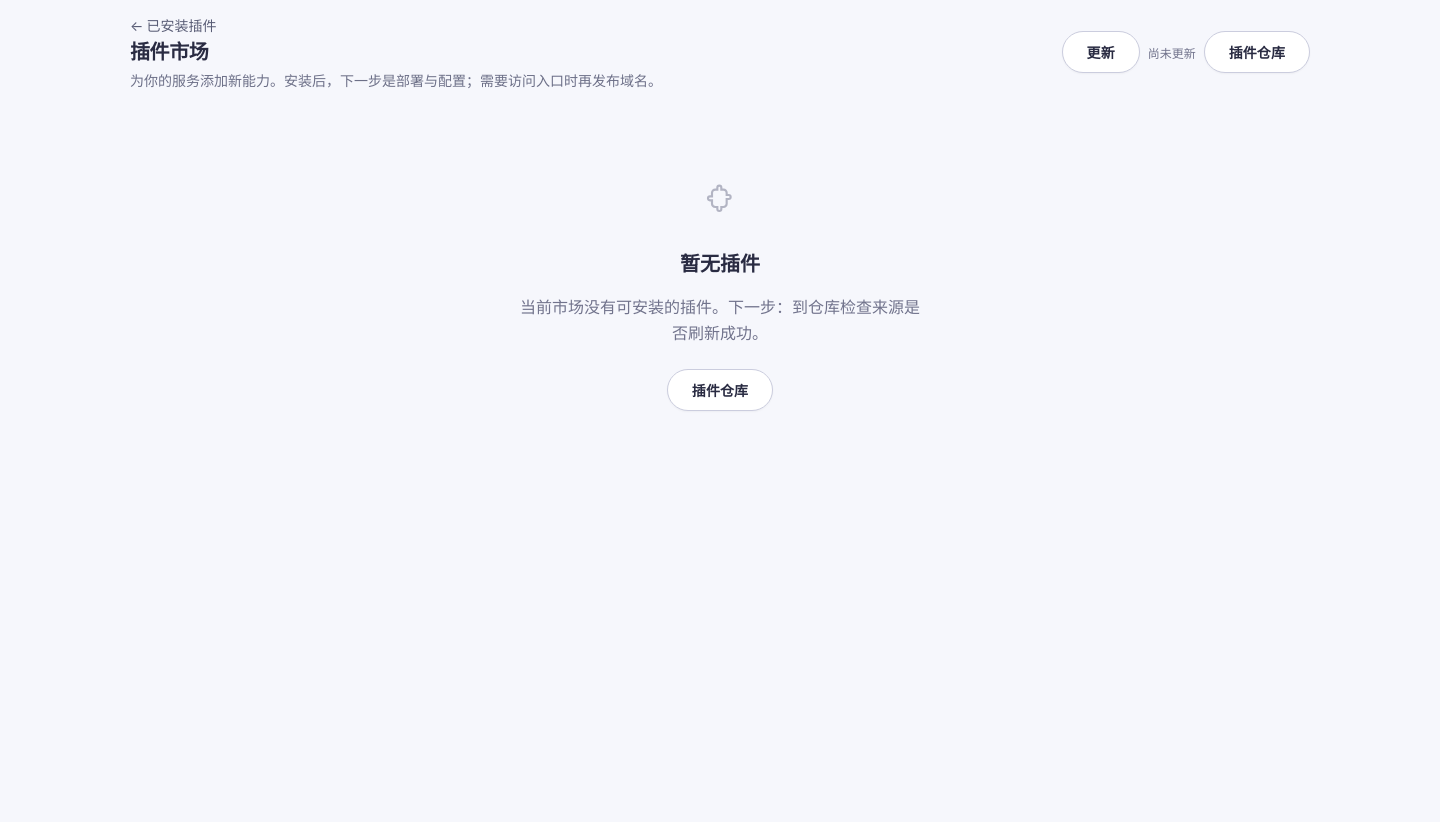
Scenario: PluginMarketplacePage › shows an empty state when the market has no packages
What coordinates should you click on to do the following:
click the button with test id "marketplace-repositories-empty"
I would click on:
 (720, 390)
Its box is [667, 369, 773, 411].
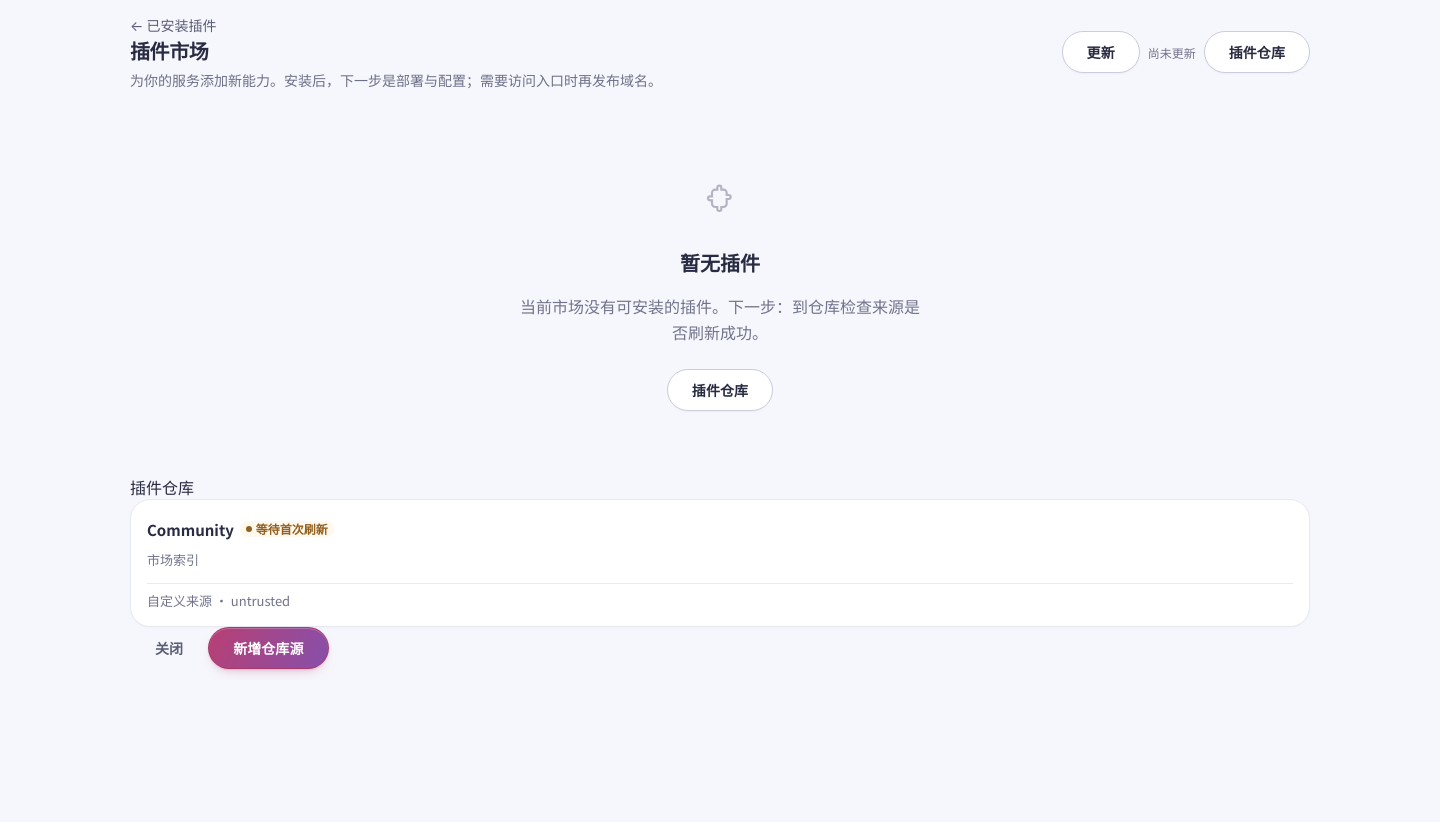
Result: the 2nd element with test id "plugin-repositories-modal" is shown at [130, 475, 1310, 669]
